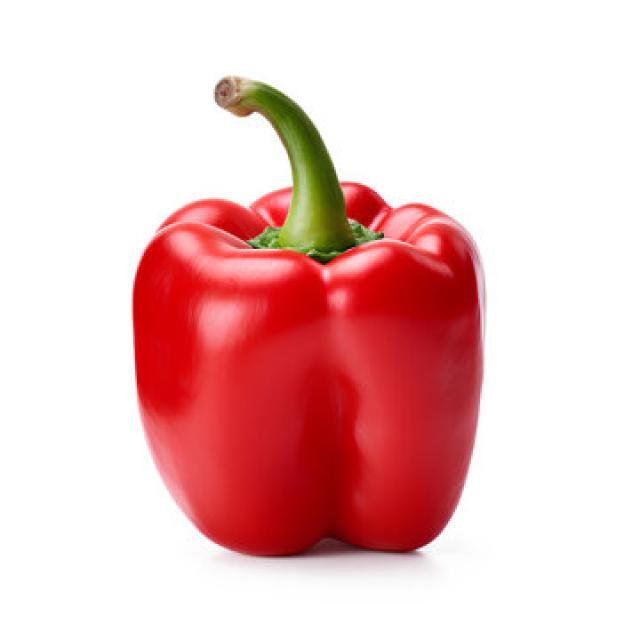Bell Pepper: (130, 73, 485, 556)
